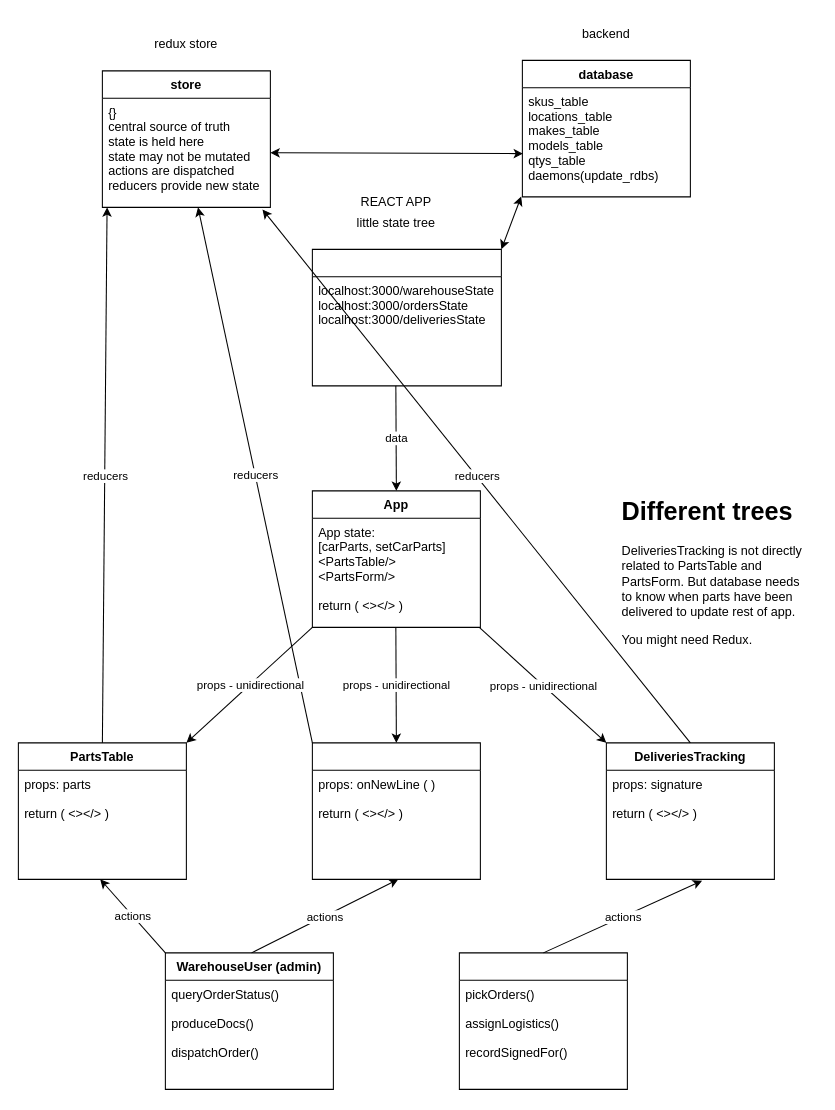
This 835x1110 diagram has some shape labels left out. Each missing label, with the box of its shape:
DeliveriesUser (fulfilment): (458, 952, 627, 1089)
PartsForm: (311, 742, 480, 879)
warehouse-service: (311, 248, 501, 386)
